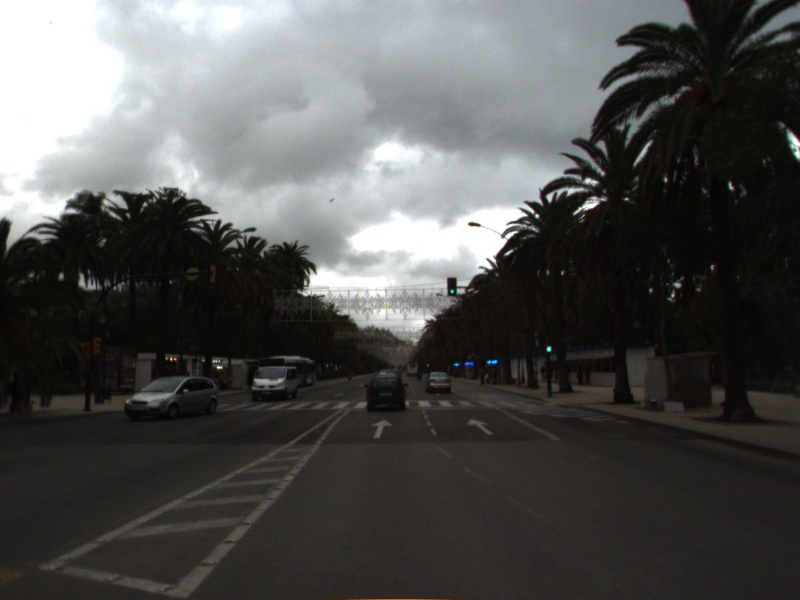STRAIGHT: (465, 416, 496, 437), (369, 417, 395, 440)
